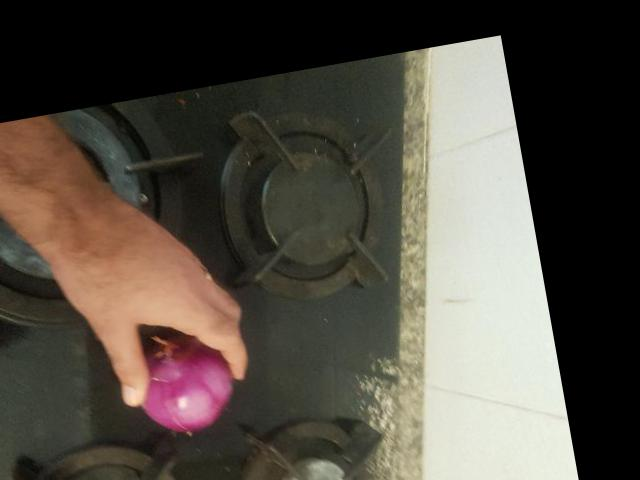onion: (129, 329, 242, 444)
